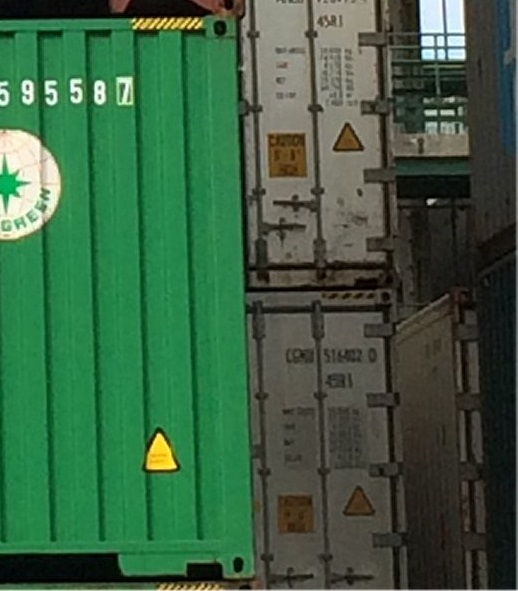container_door: (247, 290, 400, 591), (246, 3, 388, 287)
container_no_door: (3, 15, 246, 582)
